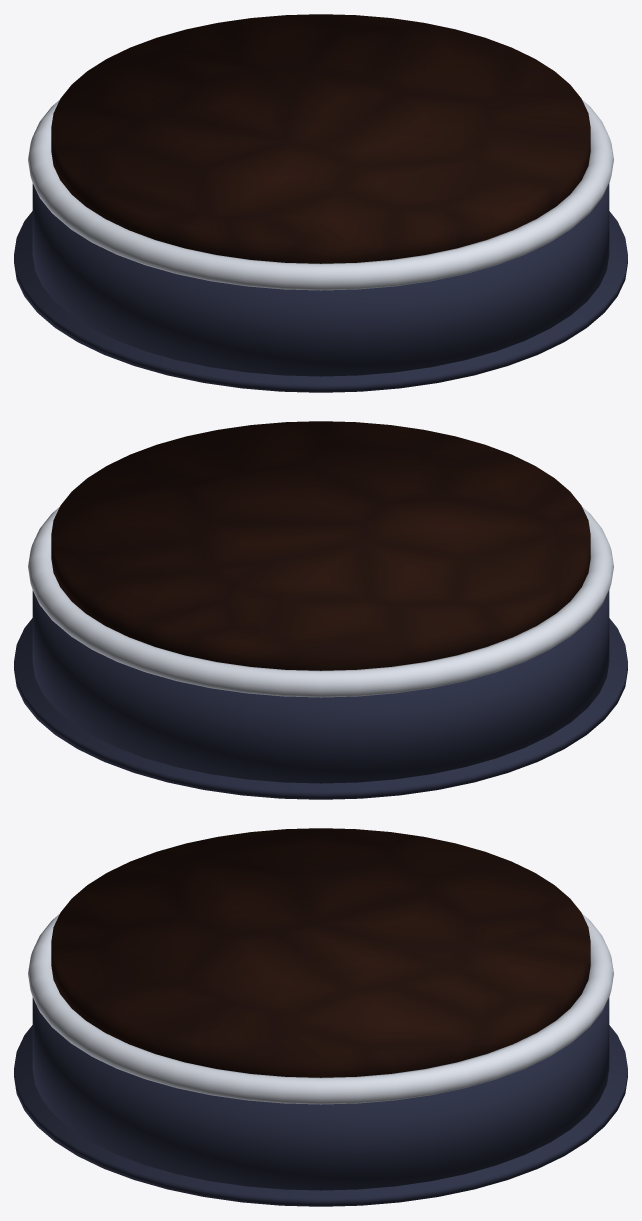
The model's file is SM_Pedestal_Lava.fbx.
3 renders of one model, top to bottom at view 1: azimuth 30°, elevation 25°; view 2: azimuth 150°, elevation 25°; view 3: azimuth 270°, elevation 25°, orthographic.
Parts seen in each view (by area): view 1: SM_Pedestal_Lava; view 2: SM_Pedestal_Lava; view 3: SM_Pedestal_Lava.
Part boxes in pixels (<box>): SM_Pedestal_Lava: <box>14,14,627,392</box>; SM_Pedestal_Lava: <box>14,421,627,799</box>; SM_Pedestal_Lava: <box>14,828,627,1206</box>.
Size of what is drawn, in the model's own units: 1.32 by 0.32 by 1.32.
Materials: 1 (1 with a texture image).
